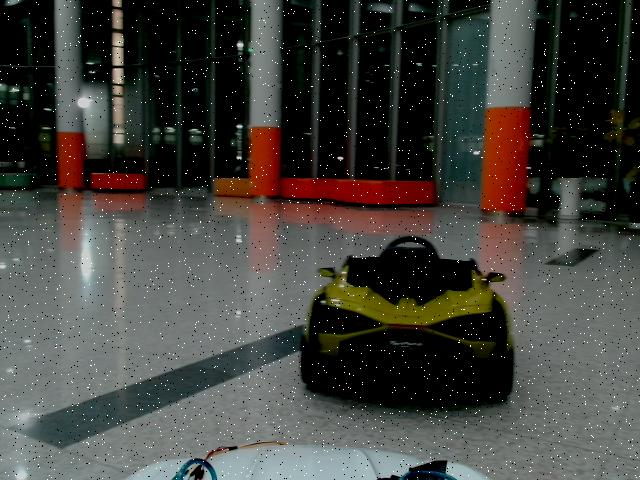car: (301, 236, 514, 401)
